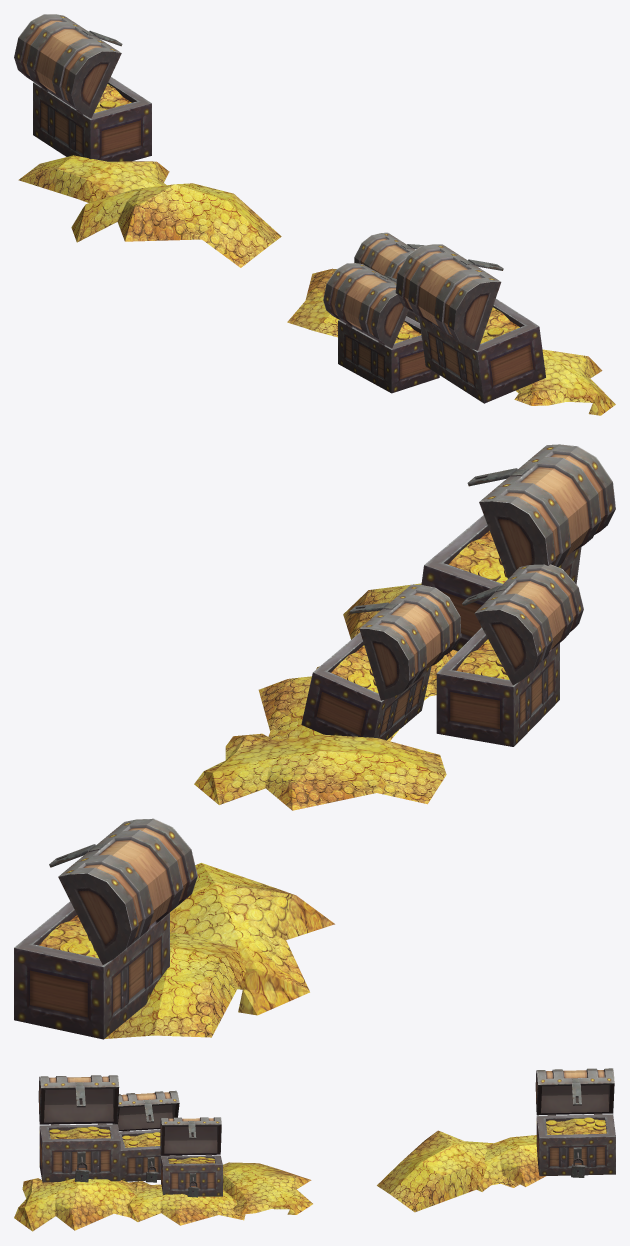
The model's file is Area_11_13.fbx.
3 renders of one model, top to bottom at view 1: azimuth 30°, elevation 25°; view 2: azimuth 150°, elevation 25°; view 3: azimuth 270°, elevation 25°, orthographic. The views are drawn at different scales.
Visible parts, largest first — view 1: Area_11_13; view 2: Area_11_13; view 3: Area_11_13.
Boxes of the visible parts, left/top/right/bottom form: Area_11_13: left=14, top=14, right=615, bottom=415; Area_11_13: left=14, top=444, right=615, bottom=1039; Area_11_13: left=14, top=1068, right=615, bottom=1231.
Bounding box in the file's own units: 554 × 331 × 1589.
